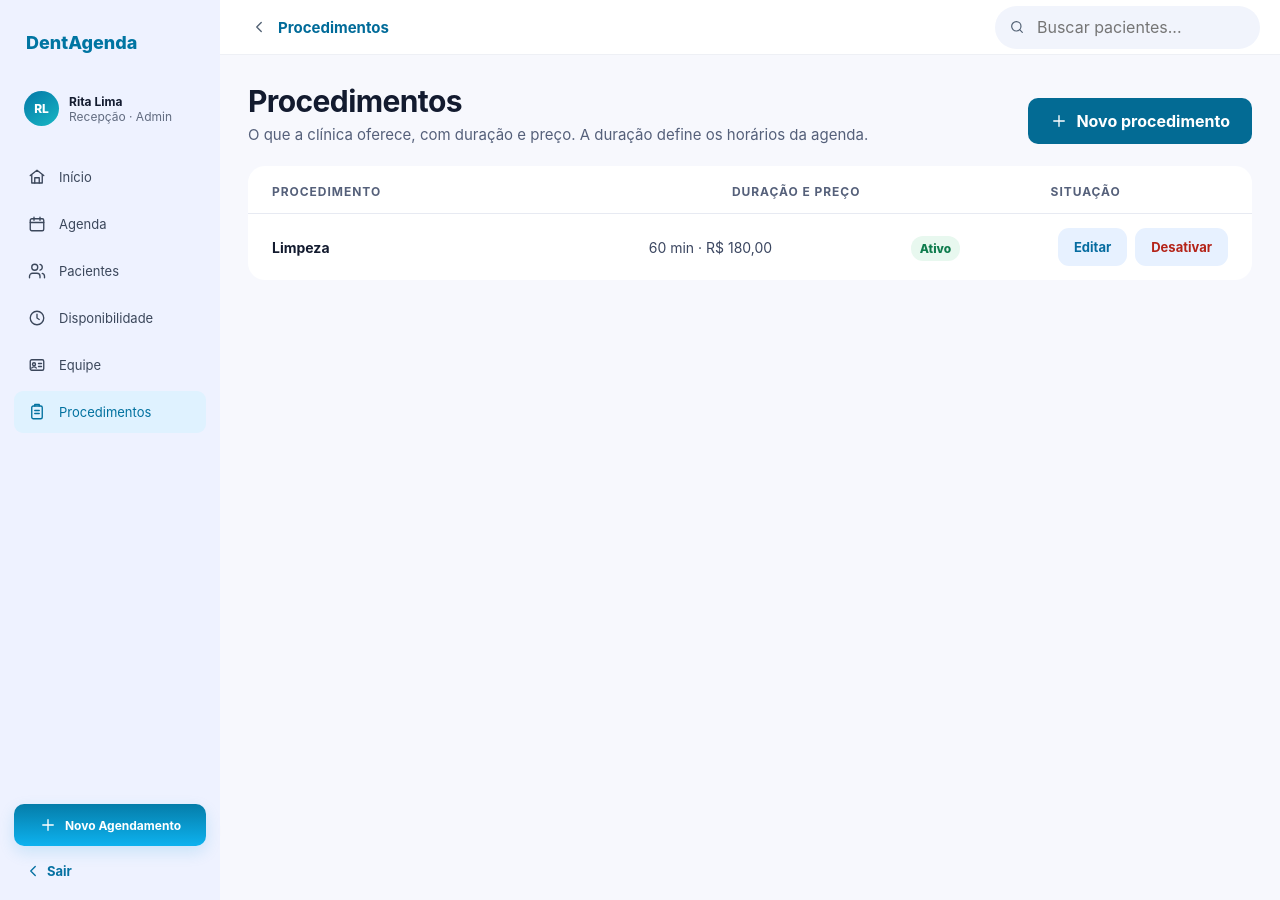
Procedimentos (D37, só admin) › nome repetido: mensagem do 409 NOME_JA_CADASTRADO
This screenshot has width=1280, height=900.
Click the button with aria-label "Editar Limpeza": click(1093, 247) [1058,228,1127,266]
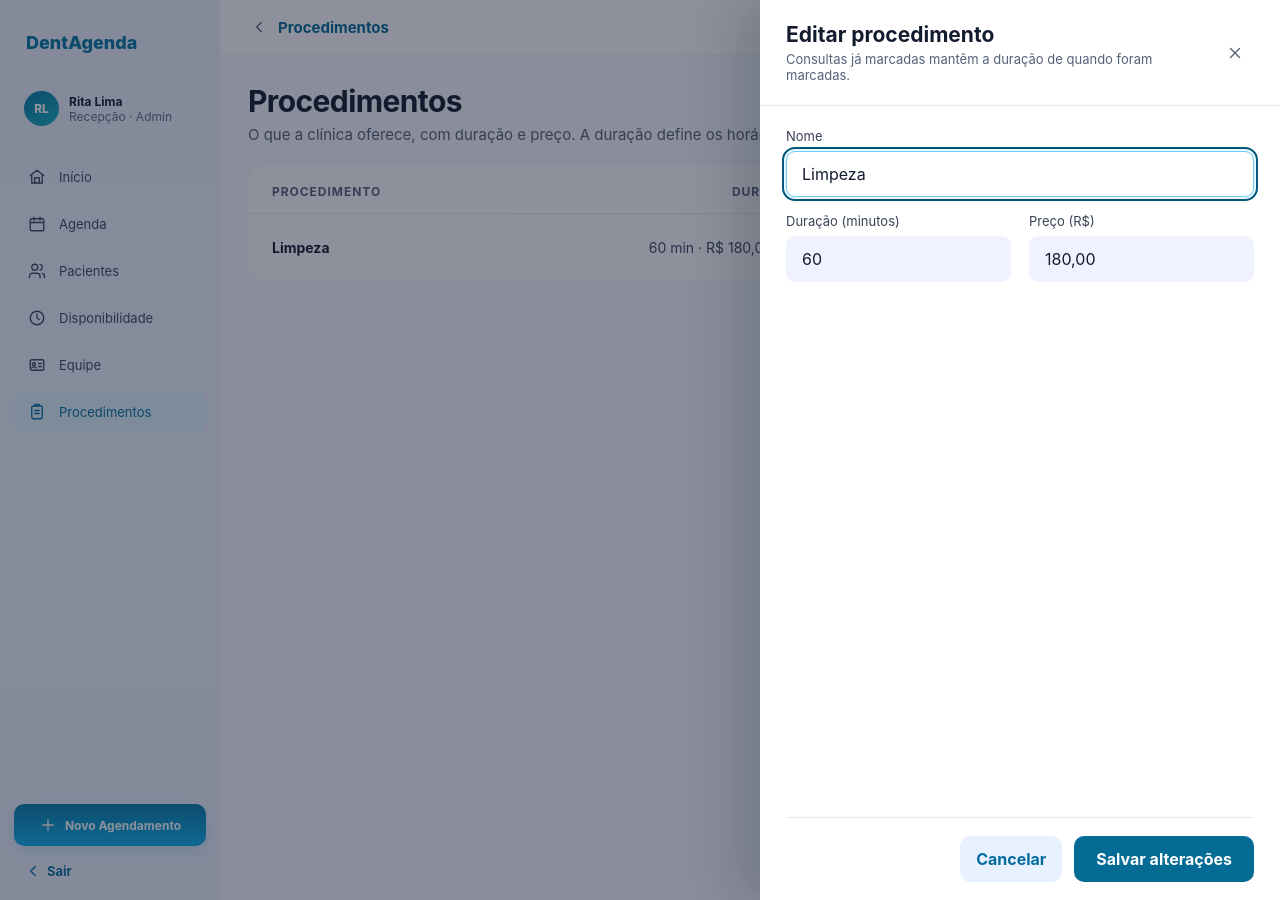
Replace the text in the field labelled "Nome" with "Clareamento": (1020, 174) [787,164,1253,184]
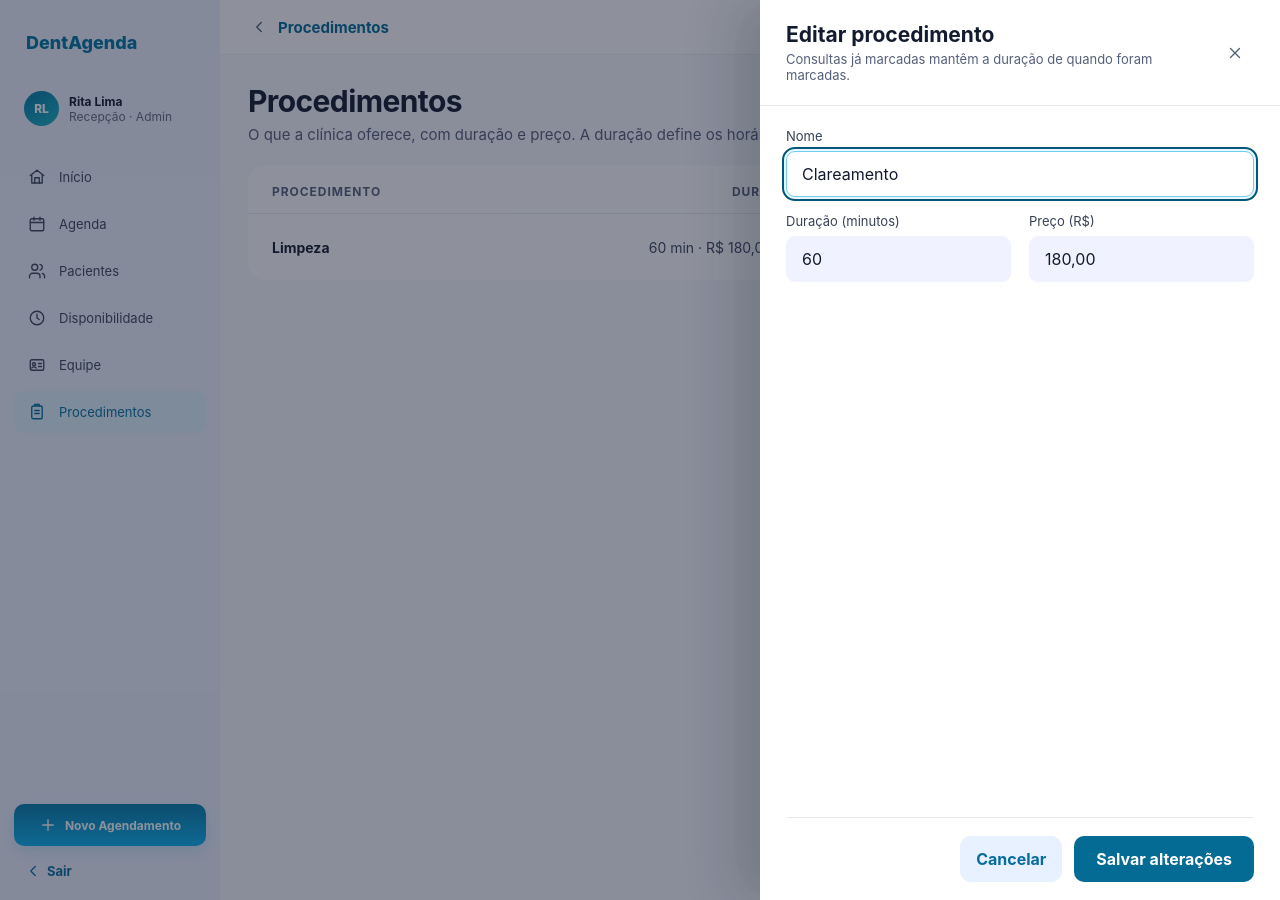
Click the button "Salvar alterações": click(1164, 859) [1074,836,1254,882]
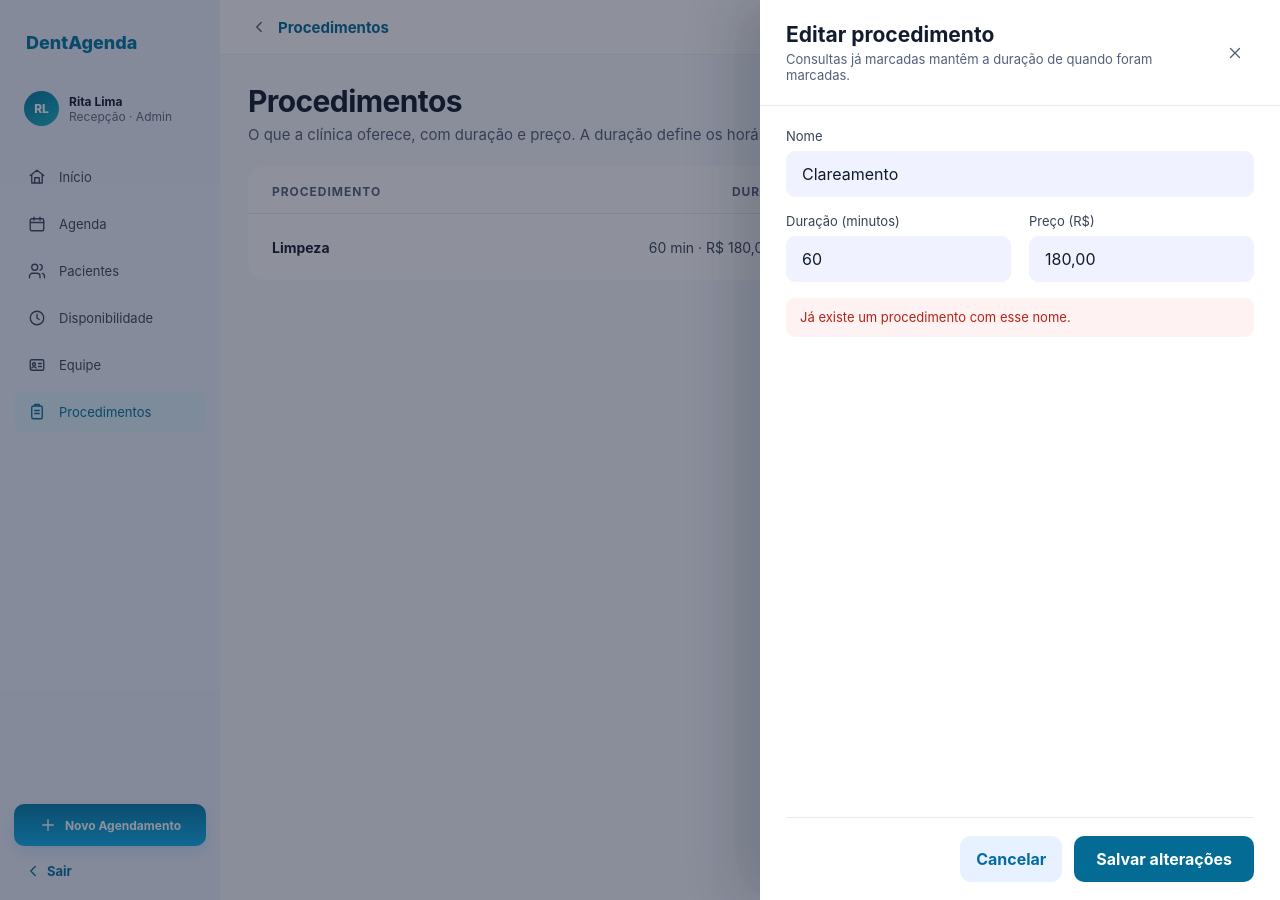
Check: the message reads "Já existe um procedimento com esse nome.", box [800,309,1071,325]
